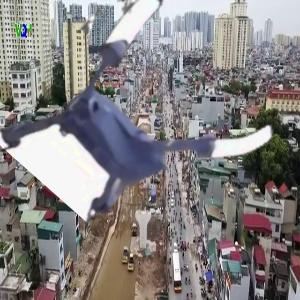drone: (34, 9, 264, 239)
